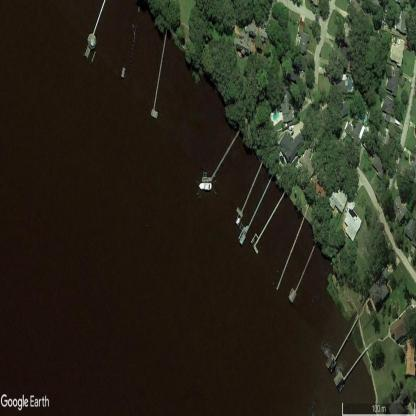ship: (199, 182, 212, 191), (236, 218, 240, 226)
